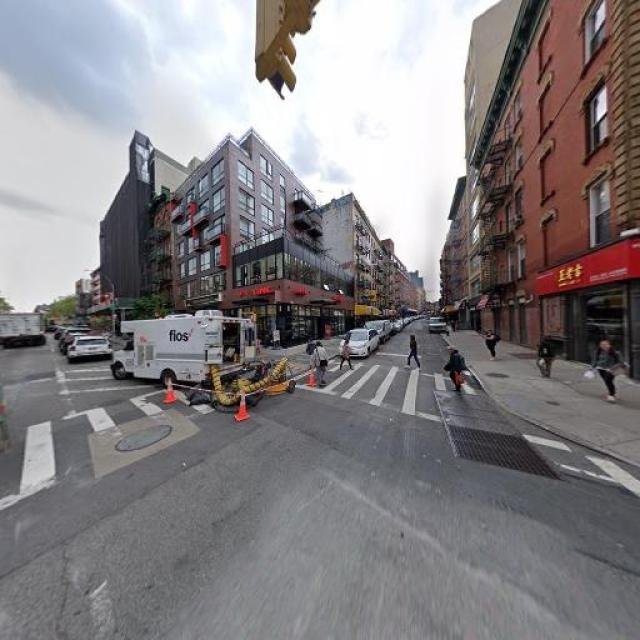Building: (477, 1, 640, 388), (229, 240, 358, 350), (182, 159, 225, 343)
